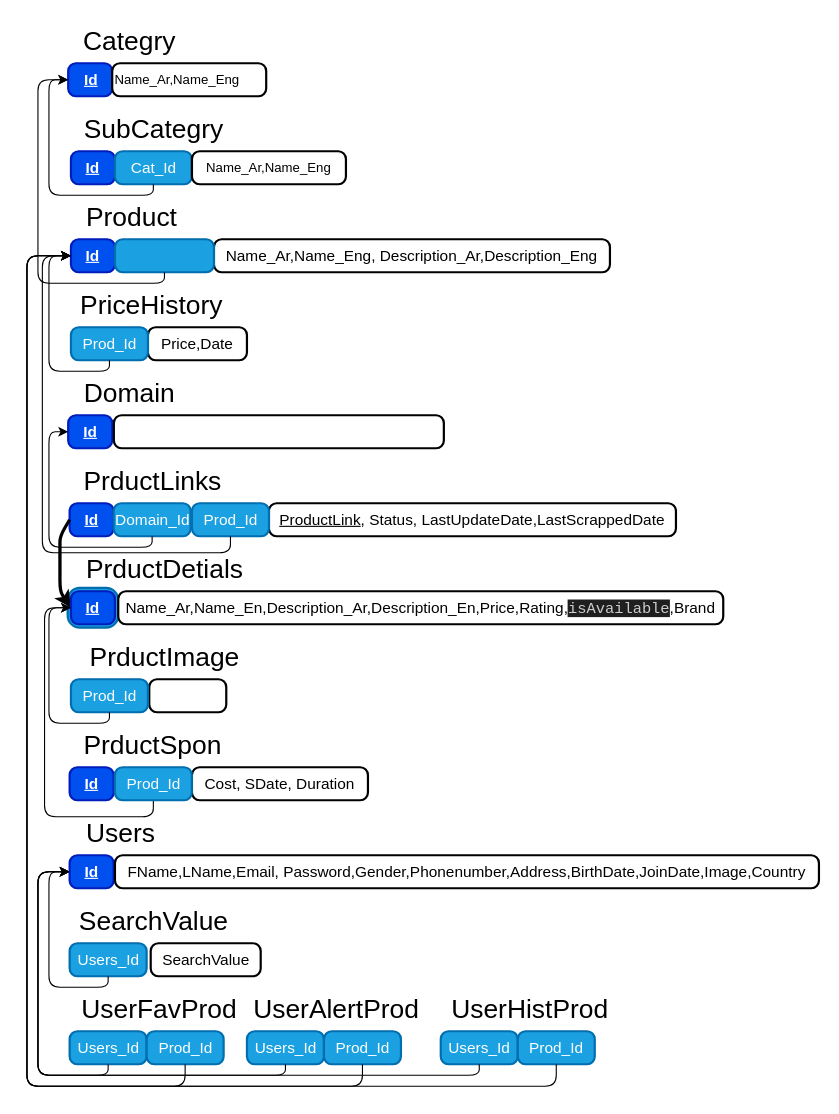
Image size: 839x1114. Some labels were removed from this diagram. Here are the shapes that lost their labels. From the top down, the centre of each, then its label:
At point 164,255: "SubCat_Id".
At point 278,431: "Name_Ar,Name_Eng, Description, Url, Logo".
At point 187,695: "images".
